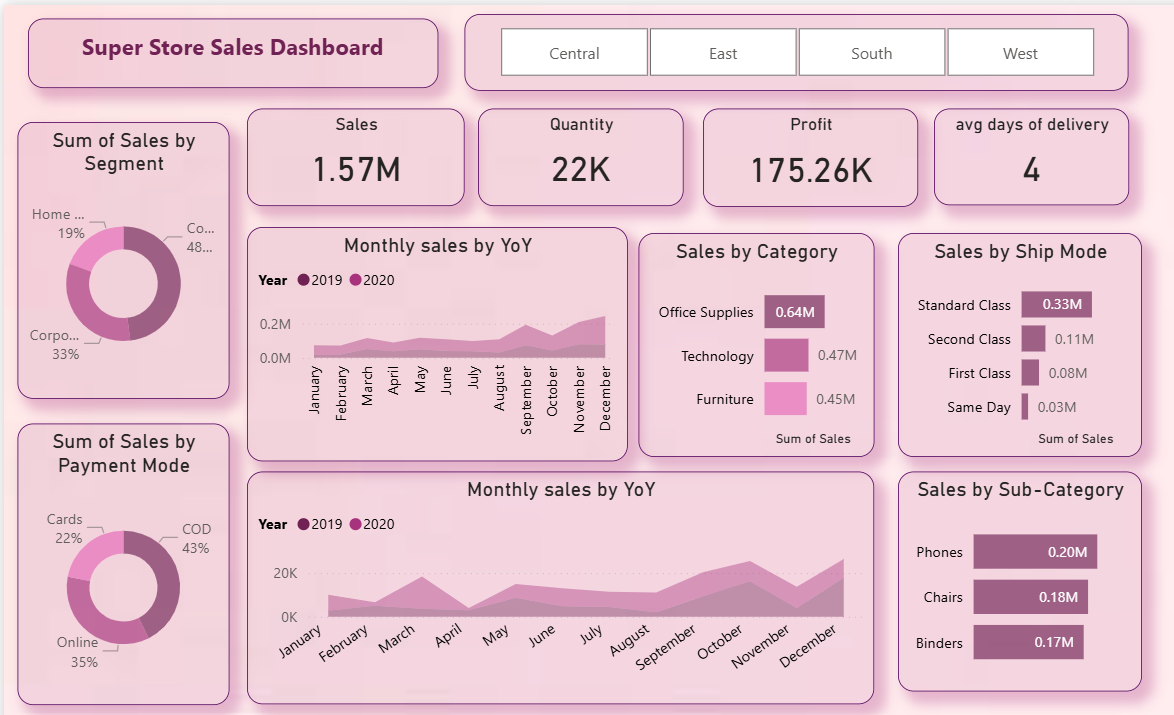

The dashboard page shown, as its layout file describes it:
{"tool":"powerbi","page":{"name":"Page 1","canvas":[1280,720],"ordinal":0},"visuals":[{"type":"clusteredBarChart","title":"Sales by Category","fields":{"Y":["Sum(SuperStore_Sales_Dataset.Sales)"],"Category":["SuperStore_Sales_Dataset.Category"]},"box":[528.9,190.4,196.4,186.7],"z":0},{"type":"clusteredBarChart","title":"Sales by Sub-Category","fields":{"Y":["Sum(SuperStore_Sales_Dataset.Sales)"],"Category":["SuperStore_Sales_Dataset.Sub-Category"]},"box":[744.6,389.2,203.6,183.1],"z":1000},{"type":"clusteredBarChart","title":"Sales by Ship Mode","fields":{"Y":["Sum(SuperStore_Sales_Dataset.Sales)"],"Category":["SuperStore_Sales_Dataset.Ship Mode"]},"box":[744.6,190.4,203.6,186.7],"z":2000},{"type":"stackedAreaChart","title":"Monthly sales by YoY","fields":{"Y":["Sum(SuperStore_Sales_Dataset.Sales)"],"Category":["SuperStore_Sales_Dataset.Order Date.Variation.Date Hierarchy.Month","SuperStore_Sales_Dataset.Order Date.Variation.Date Hierarchy.Day"],"Series":["SuperStore_Sales_Dataset.Order Date.Variation.Date Hierarchy.Year"]},"box":[202.5,185.2,317.3,195.1],"z":3000},{"type":"donutChart","fields":{"Category":["SuperStore_Sales_Dataset.Segment"],"Y":["Sum(SuperStore_Sales_Dataset.Sales)"]},"box":[11.1,97.5,176.5,230.9],"z":4000},{"type":"donutChart","fields":{"Category":["SuperStore_Sales_Dataset.Payment Mode"],"Y":["Sum(SuperStore_Sales_Dataset.Sales)"]},"box":[11.1,348.1,176.5,234.6],"z":5000},{"type":"slicer","fields":{"Values":["SuperStore_Sales_Dataset.Region"]},"box":[384.3,7.2,553,63.9],"z":6000},{"type":"textbox","box":[19.8,11.1,342,58],"z":7000},{"type":"card","title":"Sales","fields":{"Values":["Sum(SuperStore_Sales_Dataset.Sales)"]},"box":[202.5,86.4,181.5,81.5],"z":8000},{"type":"card","title":"Quantity","fields":{"Values":["Sum(SuperStore_Sales_Dataset.Quantity)"]},"box":[395.1,86.4,171.6,81.5],"z":9000},{"type":"card","title":"Profit","fields":{"Values":["Sum(SuperStore_Sales_Dataset.Profit)"]},"box":[581.9,86.7,179.5,81.9],"z":10000},{"type":"card","title":"avg days of delivery","fields":{"Values":["Avg(SuperStore_Sales_Dataset.AvgDelivery)"]},"box":[774.7,86.7,162.7,80.7],"z":11000},{"type":"stackedAreaChart","title":"Monthly sales by YoY","fields":{"Category":["SuperStore_Sales_Dataset.Order Date.Variation.Date Hierarchy.Month","SuperStore_Sales_Dataset.Order Date.Variation.Date Hierarchy.Day"],"Series":["SuperStore_Sales_Dataset.Order Date.Variation.Date Hierarchy.Year"],"Y":["Sum(SuperStore_Sales_Dataset.Profit)"]},"box":[202.4,389.2,522.9,194],"z":12000}]}

Visuals, with their boxes on the page's 1280x720 design canvas (x1, y1, x2, y2). These are canvas units, not pixel positions in the 1174x715 screenshot, which may show the page scaled, cropped or inside an application window:
"Sales by Category" clusteredBarChart: [x1=529, y1=190, x2=725, y2=377]
"Sales by Sub-Category" clusteredBarChart: [x1=745, y1=389, x2=948, y2=572]
"Sales by Ship Mode" clusteredBarChart: [x1=745, y1=190, x2=948, y2=377]
"Monthly sales by YoY" stackedAreaChart: [x1=202, y1=185, x2=520, y2=380]
donutChart - SuperStore_Sales_Dataset.Segment x Sum(SuperStore_Sales_Dataset.Sales): [x1=11, y1=98, x2=188, y2=328]
donutChart - SuperStore_Sales_Dataset.Payment Mode x Sum(SuperStore_Sales_Dataset.Sales): [x1=11, y1=348, x2=188, y2=583]
slicer - SuperStore_Sales_Dataset.Region: [x1=384, y1=7, x2=937, y2=71]
textbox: [x1=20, y1=11, x2=362, y2=69]
"Sales" card: [x1=202, y1=86, x2=384, y2=168]
"Quantity" card: [x1=395, y1=86, x2=567, y2=168]
"Profit" card: [x1=582, y1=87, x2=761, y2=169]
"avg days of delivery" card: [x1=775, y1=87, x2=937, y2=167]
"Monthly sales by YoY" stackedAreaChart: [x1=202, y1=389, x2=725, y2=583]
